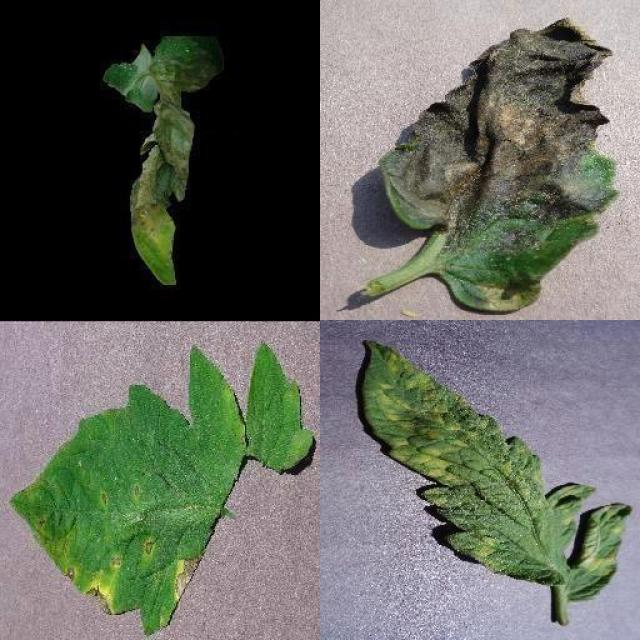Late Blight: (382, 15, 618, 315), (104, 34, 218, 286)
Septoria: (7, 344, 245, 635)
